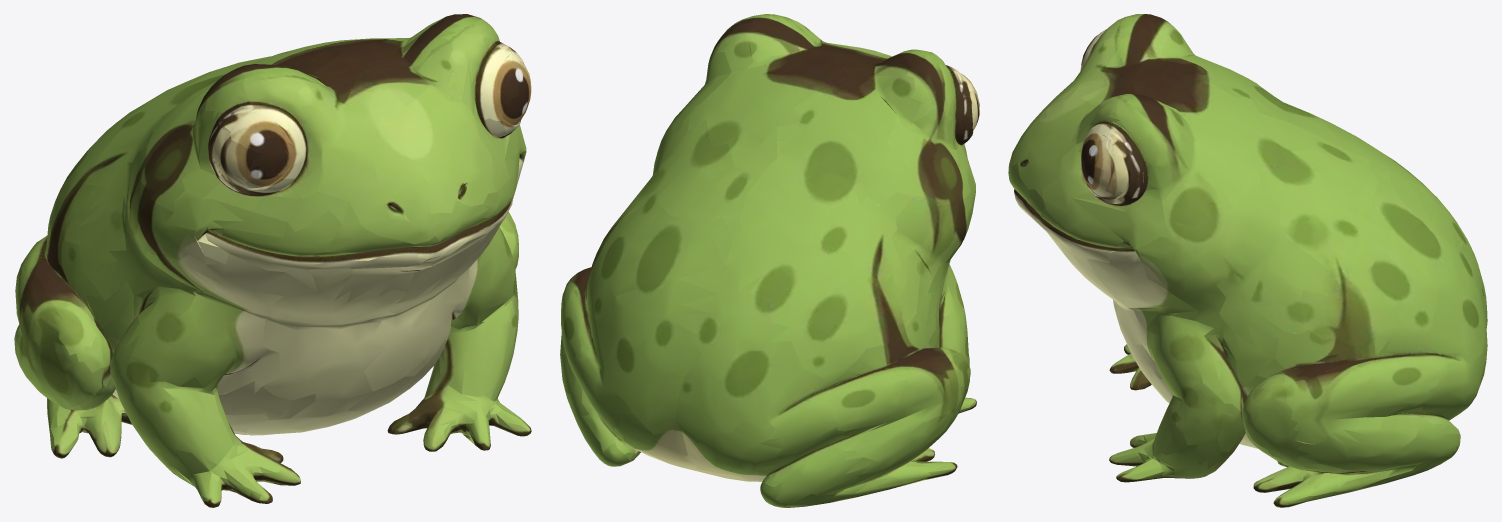
Rendered from pet_hopper.glb.
3 views of the same model, side by side, from view 1: azimuth 30°, elevation 25°; view 2: azimuth 150°, elevation 25°; view 3: azimuth 270°, elevation 25° (orthographic). The views are drawn at different scales.
Bounding box in the file's own units: 1.86 × 1.57 × 1.9.
Materials: 1 (1 with a texture image).
